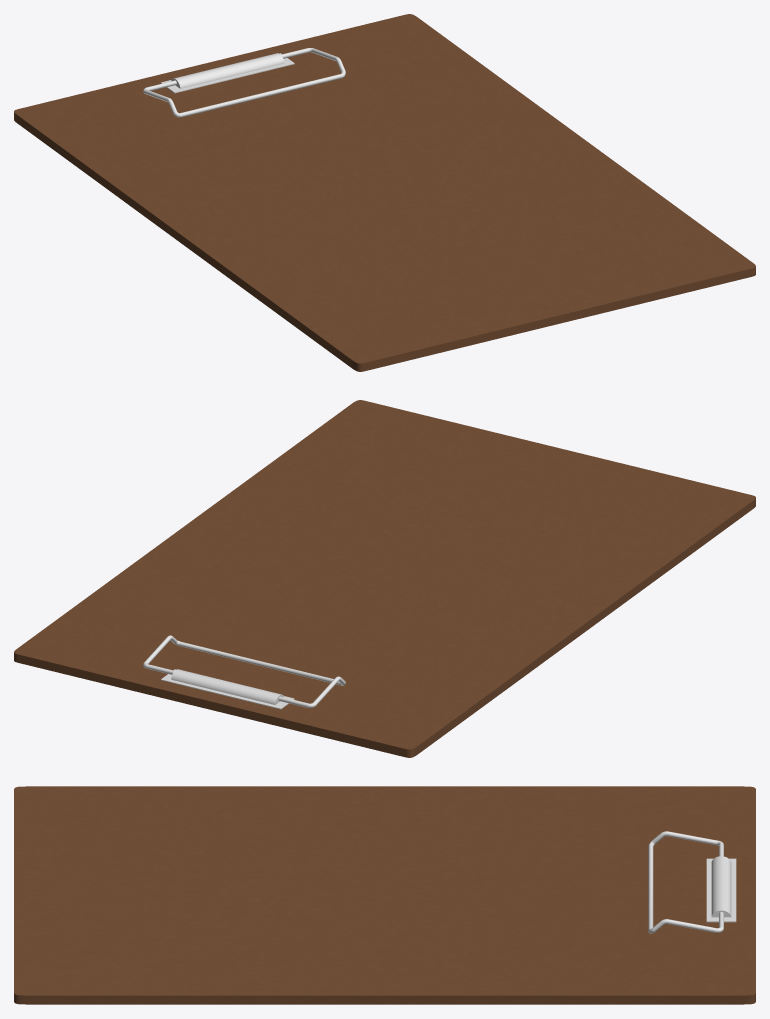
The model's file is regular_ole_clipboard.glb.
3 views of the same model, one above another, from view 1: azimuth 30°, elevation 25°; view 2: azimuth 150°, elevation 25°; view 3: azimuth 270°, elevation 25° (orthographic). The views are drawn at different scales.
Visible parts, largest first — view 1: board, clip base, clip; view 2: board, clip base, clip; view 3: board, clip base, clip.
Boxes of the visible parts, x1,y1,x2,y2 form: board: (14, 14, 755, 371); clip base: (161, 53, 294, 93); clip: (143, 48, 345, 117); board: (14, 400, 755, 757); clip base: (161, 669, 294, 709); clip: (143, 635, 345, 707); board: (14, 786, 755, 1004); clip base: (706, 856, 736, 922); clip: (648, 831, 723, 933).
Bounding box in the file's own units: 5 × 0.2741 × 7.5.
3 materials, 1 textured.
